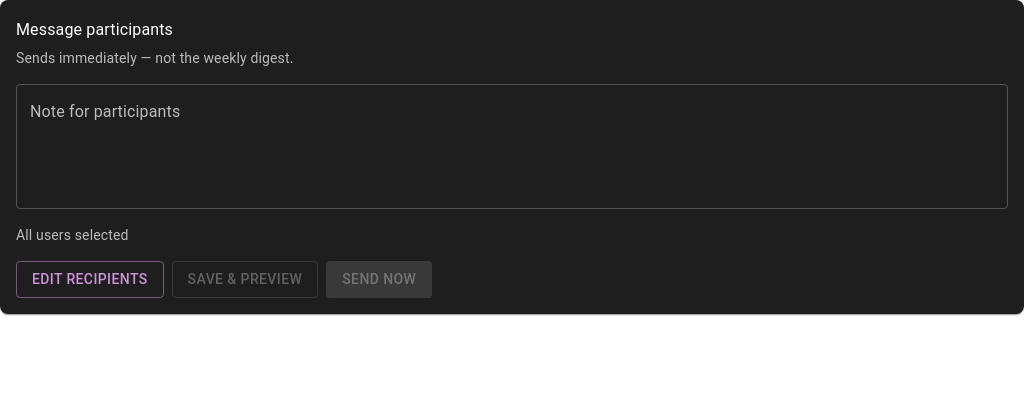
Scenario: AdminOnDemandEmailCard › shows the CSRF error in the card instead of a JSON tab
Type "Hello league" into the text box labelled "Note for participants" at (512, 146), box [30,100,994,192]
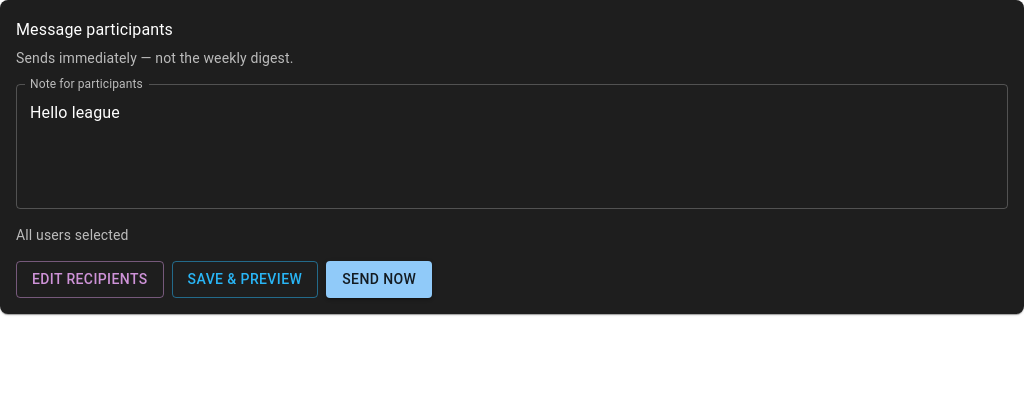
Click the button "Save & Preview" at (245, 279), box [172,261,318,298]
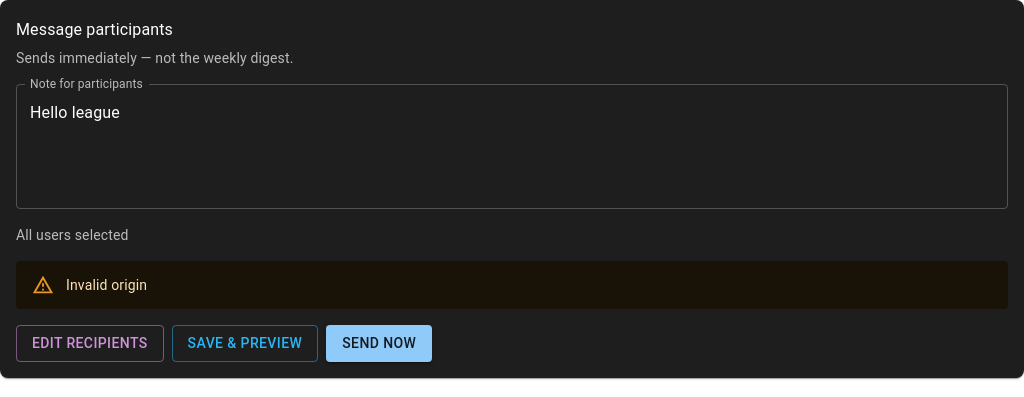
expect the text "Invalid origin" is shown: met, box [66,277,147,293]
